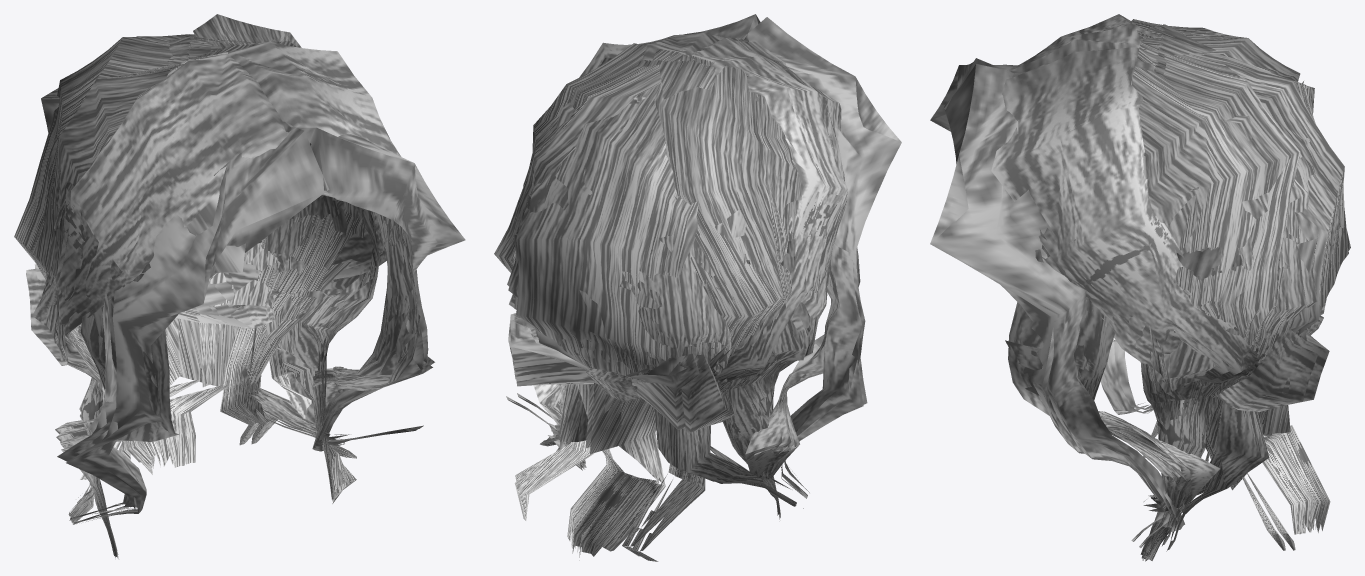
The model's file is daz_hair_ballerina_bun.glb.
3 renders of one model, left to right at view 1: azimuth 30°, elevation 25°; view 2: azimuth 150°, elevation 25°; view 3: azimuth 270°, elevation 25°, orthographic. The views are drawn at different scales.
Visible parts, largest first — view 1: daz_hair_ballerina_bun; view 2: daz_hair_ballerina_bun; view 3: daz_hair_ballerina_bun.
Boxes of the visible parts, bbox=[...] form: daz_hair_ballerina_bun: bbox=[14, 14, 465, 558]; daz_hair_ballerina_bun: bbox=[494, 14, 901, 561]; daz_hair_ballerina_bun: bbox=[930, 14, 1350, 561].
Size of the model in its own units: 0.1964 by 0.2471 by 0.1936.
Materials: 1 (1 with a texture image).
